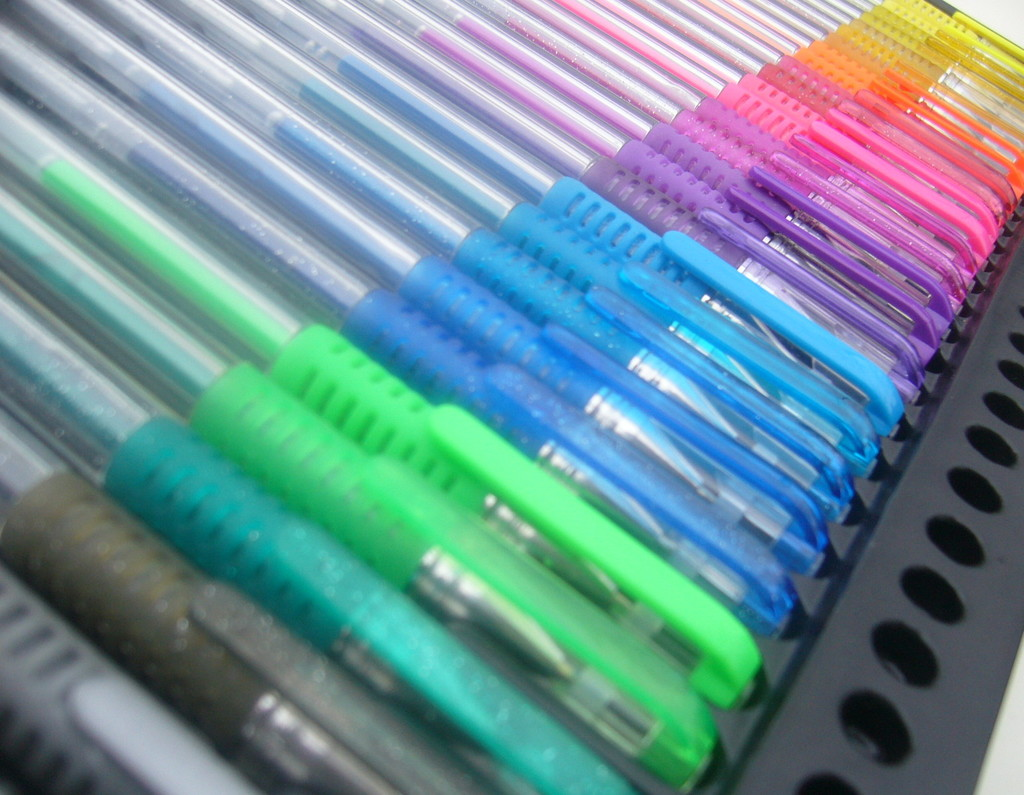Pen: (0, 0, 1019, 794)
